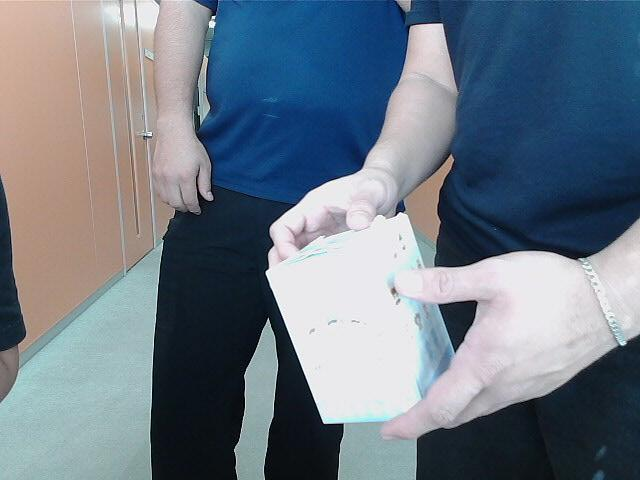Blind_box: (268, 212, 469, 426)
